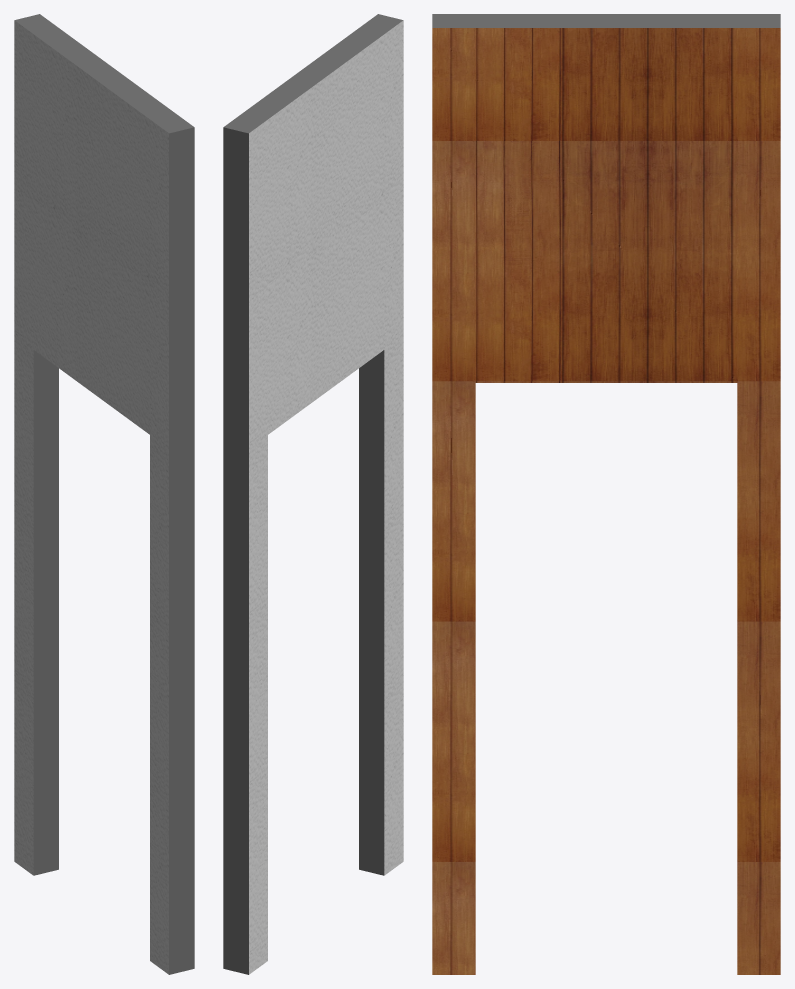
File: FrontWallDoor.fbx
The picture shows the model from 3 angles, left to right: view 1: azimuth 30°, elevation 25°; view 2: azimuth 150°, elevation 25°; view 3: azimuth 270°, elevation 25°; orthographic projection. The views are drawn at different scales.
Parts seen in each view (by area): view 1: Cube.003; view 2: Cube.003; view 3: Cube.003.
Part boxes in pixels (bbox=[...]): Cube.003: bbox=[14, 14, 194, 974]; Cube.003: bbox=[223, 14, 403, 974]; Cube.003: bbox=[432, 14, 780, 974].
Bounding box in the file's own units: 18.98 × 600 × 200.
Materials: 3 (2 with a texture image).
